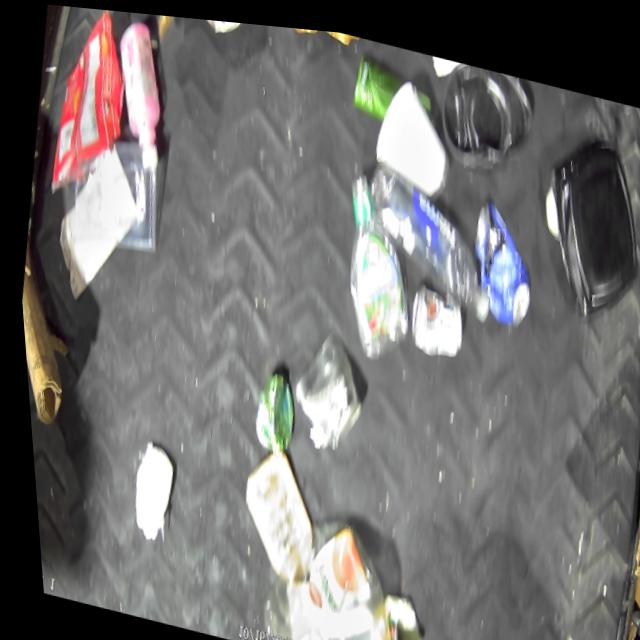can: (278, 317, 369, 450), (456, 186, 542, 317), (401, 272, 466, 352), (194, 15, 253, 34)
non_white_jug: (431, 49, 540, 169)
plastic_bottle: (350, 154, 504, 313)
